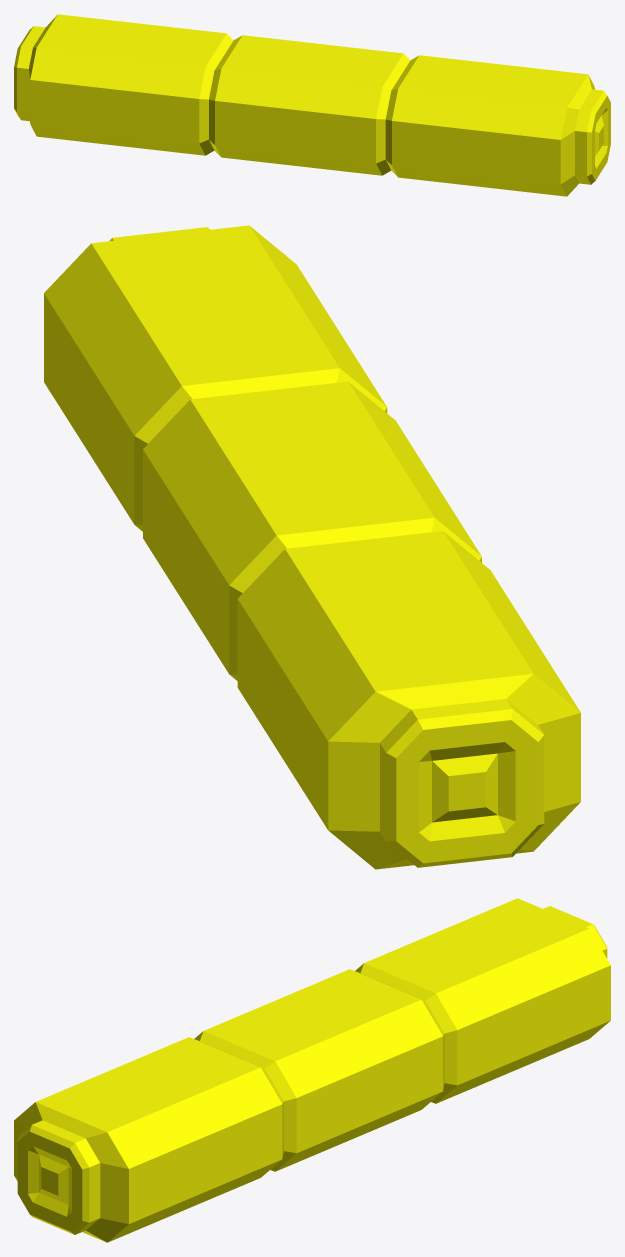
The model's file is kaykit-tunnel-diagonal-long-b.glb.
3 views of the same model, one above another, from view 1: azimuth 30°, elevation 25°; view 2: azimuth 150°, elevation 25°; view 3: azimuth 270°, elevation 25° (orthographic). The views are drawn at different scales.
Parts seen in each view (by area): view 1: tunnel_diagonal_long_B; view 2: tunnel_diagonal_long_B; view 3: tunnel_diagonal_long_B.
Part boxes in pixels (box(x1,y1,x2,y2)): tunnel_diagonal_long_B: box(14, 14, 610, 196); tunnel_diagonal_long_B: box(44, 225, 580, 869); tunnel_diagonal_long_B: box(14, 898, 610, 1242).
Bounding box in the file's own units: 2.94 × 0.5999 × 2.94.
